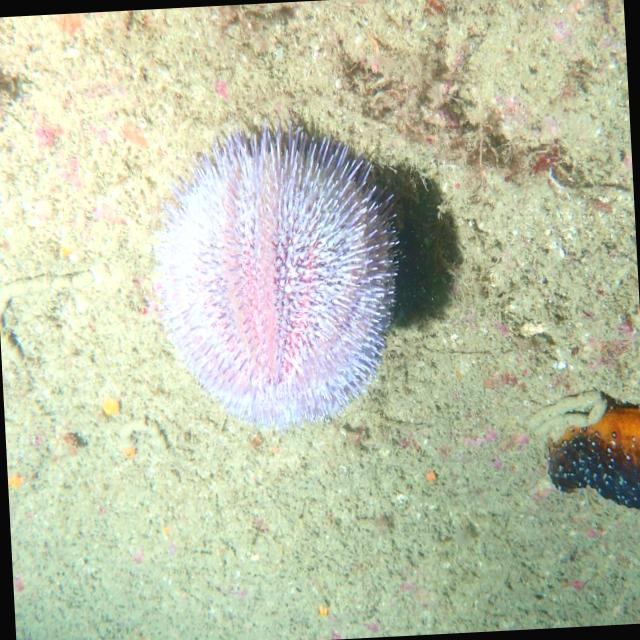Deniz Kestanesi: (150, 108, 408, 438)
